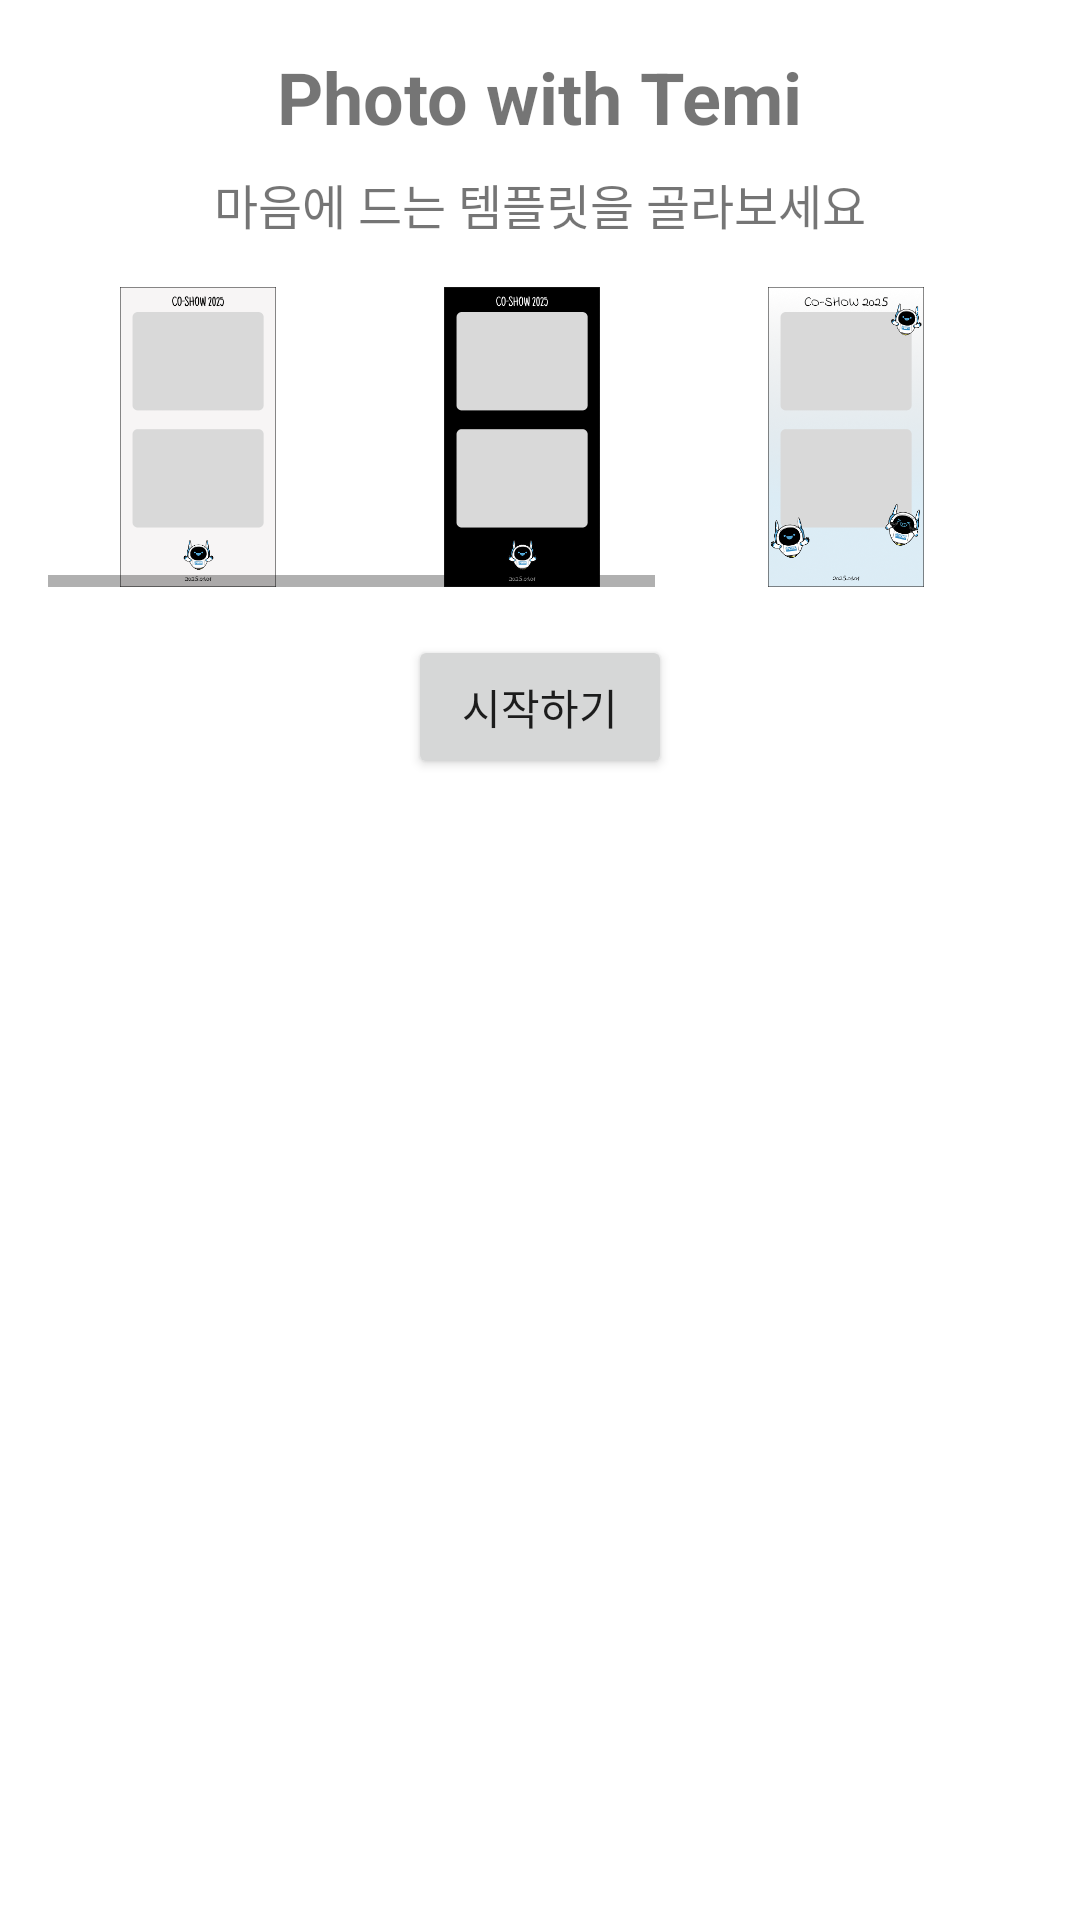

Named icons in this screenshot (1080 x 1920) and their centers, (x=x, y=y):
Black Template: (x=513, y=437)
Coshow Template: (x=846, y=437)
Default Template: (x=198, y=433)
